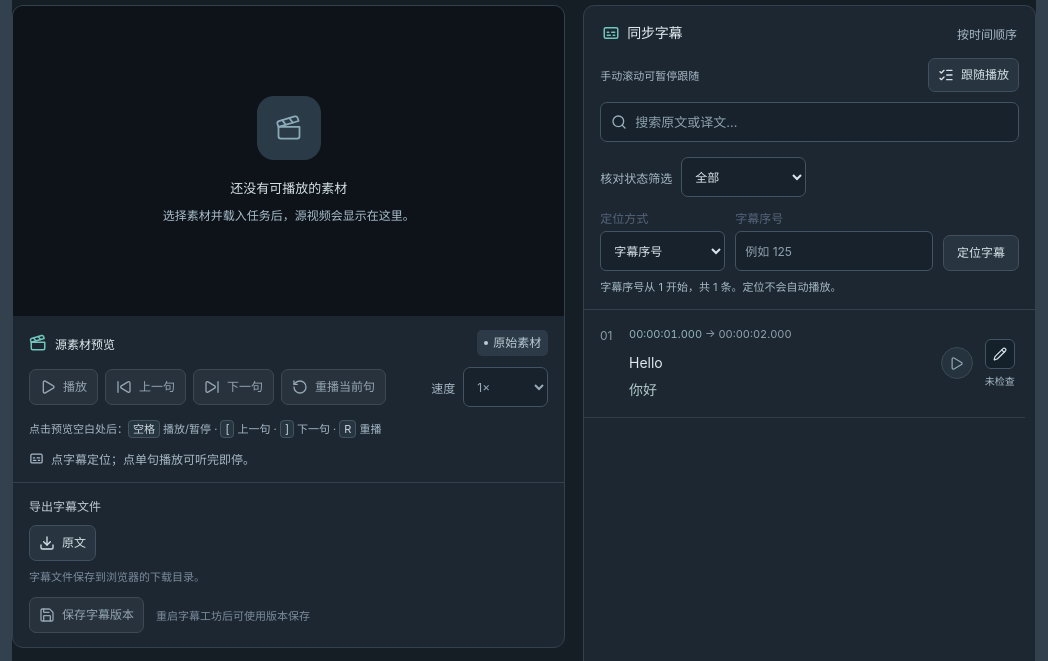
Test: source-only review › retains bilingual editing and confirmation when mode is absent even if acceptance is unsupported
Click the button named "编辑第 1 句": (1000, 354) left=985, top=338, right=1015, bottom=368
(page scrolled)
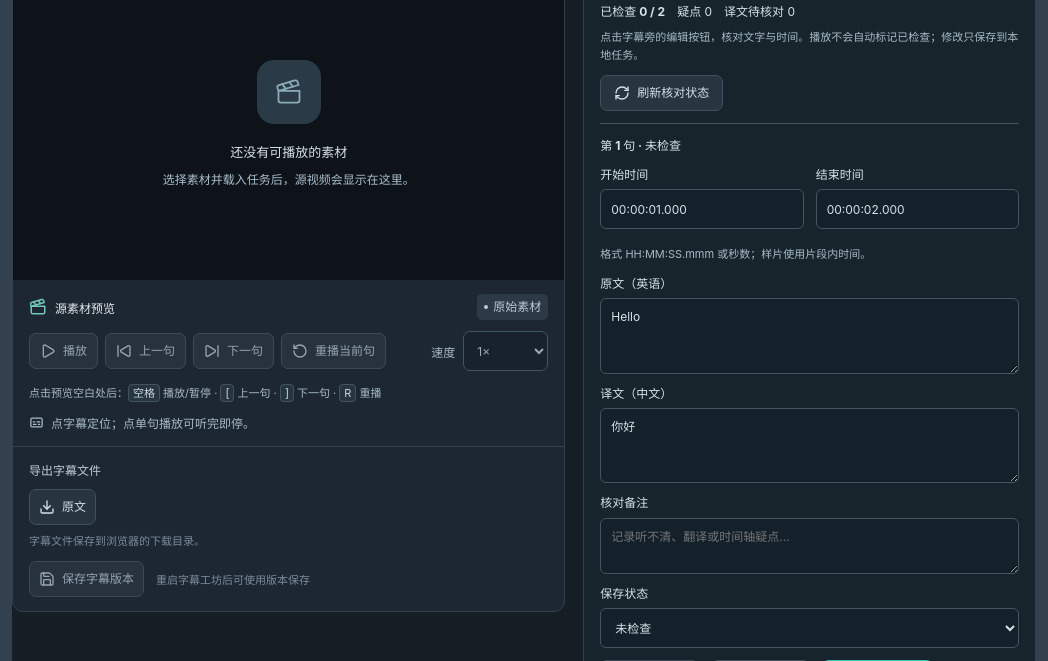
Expected: the text box labelled "译文（中文）" holds "你好", left=600, top=408, right=1019, bottom=484
Replace the text in the text box labelled "原文（英语）" with "New source": (810, 336) left=600, top=298, right=1019, bottom=374
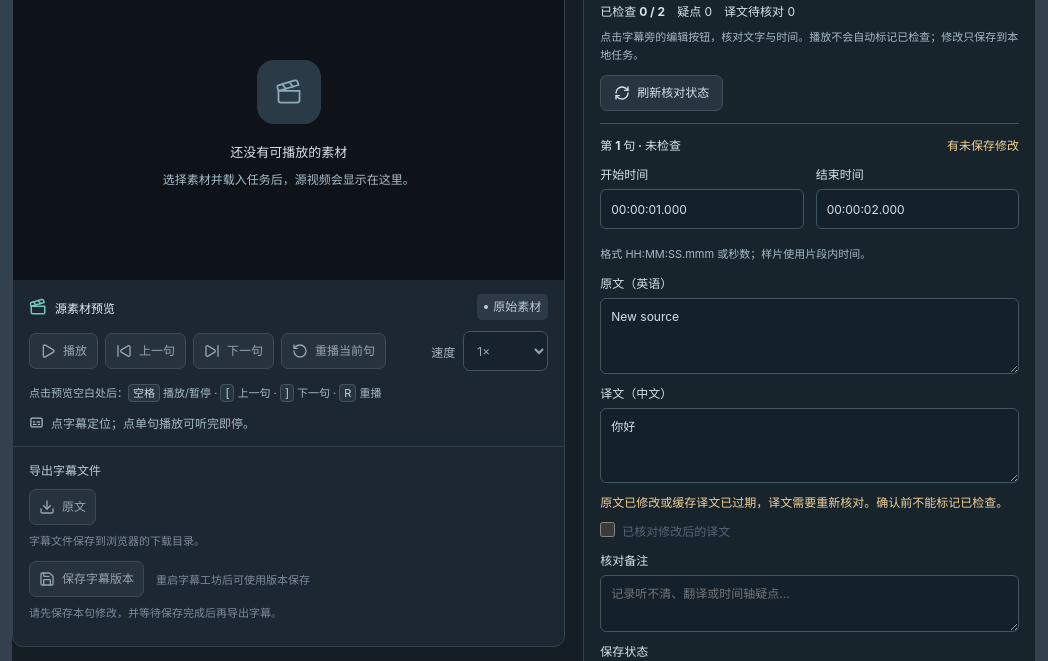
Click the checkbox labelled "已核对修改后的译文": (608, 529) left=600, top=522, right=615, bottom=537
(page scrolled)
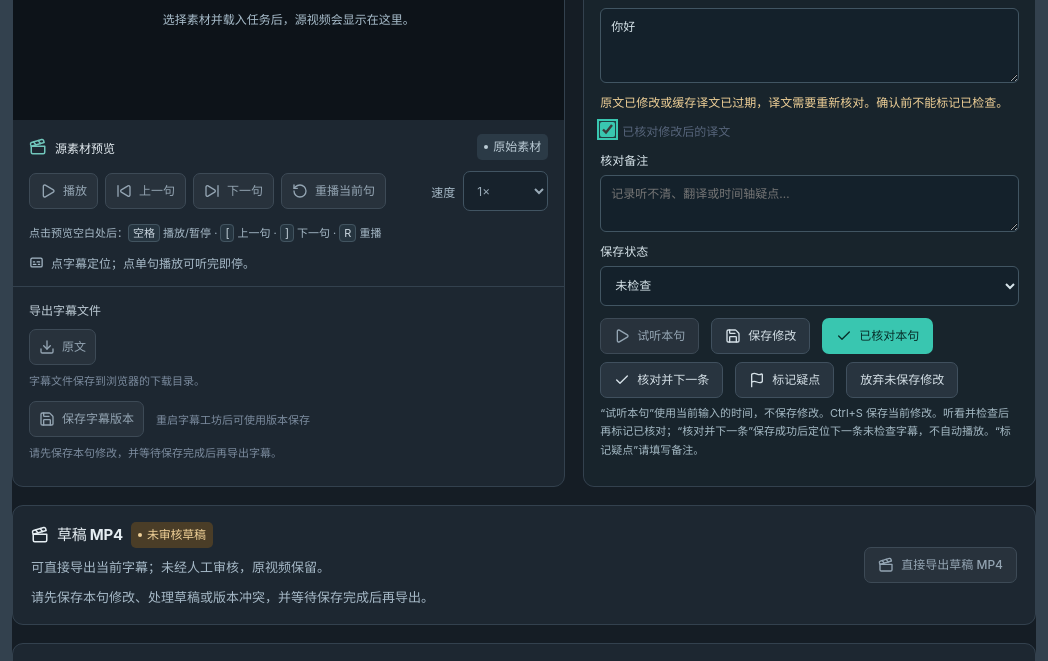
Expected: the button "已核对本句" is enabled, left=822, top=318, right=933, bottom=354
